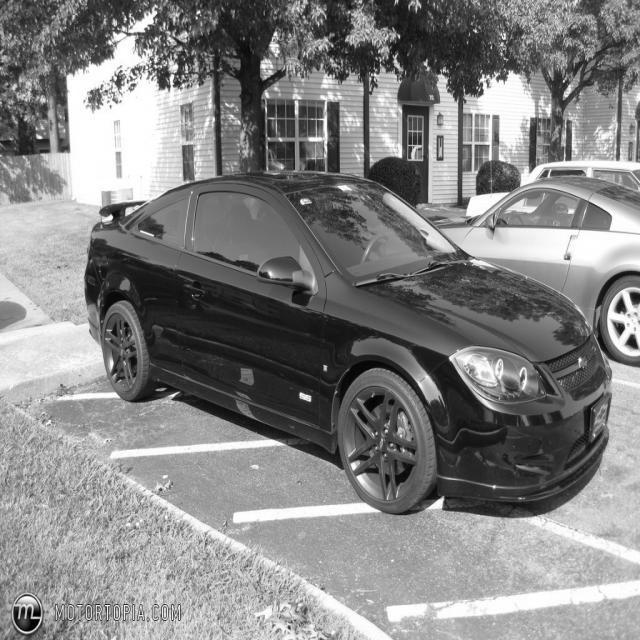Sedan: (83, 173, 612, 519)
